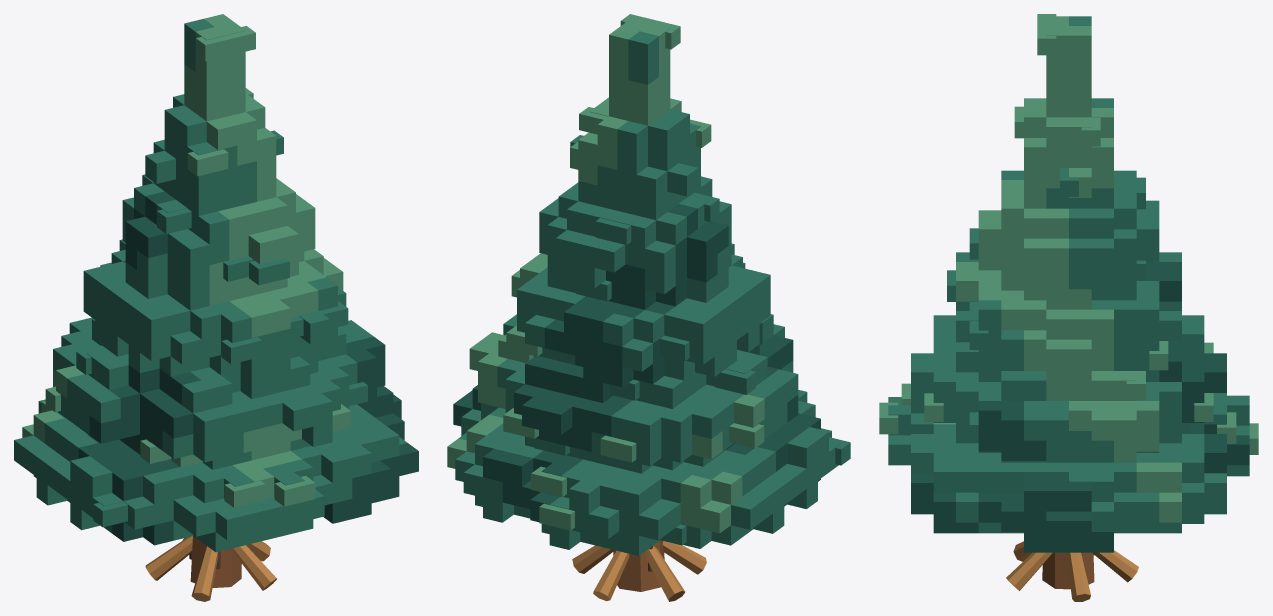
File: tree_pine.glb
The picture shows the model from 3 angles, left to right: view 1: azimuth 30°, elevation 25°; view 2: azimuth 150°, elevation 25°; view 3: azimuth 270°, elevation 25°; orthographic projection.
Visible parts, largest first — view 1: canopy__tree_pine_mid.004, canopy__tree_pine_light.004, canopy__tree_pine_dark.004, body__wood2.035, body__wood.036; view 2: canopy__tree_pine_mid.004, canopy__tree_pine_dark.004, canopy__tree_pine_light.004, body__wood2.035, body__wood.036; view 3: canopy__tree_pine_mid.004, canopy__tree_pine_light.004, canopy__tree_pine_dark.004, body__wood2.035, body__wood.036.
Part boxes in pixels (x1,y1,x2,y2): canopy__tree_pine_mid.004: [14, 18, 407, 552]; canopy__tree_pine_light.004: [22, 14, 351, 507]; canopy__tree_pine_dark.004: [78, 191, 418, 545]; body__wood2.035: [145, 536, 276, 601]; body__wood.036: [190, 536, 241, 587]; canopy__tree_pine_mid.004: [455, 31, 850, 555]; canopy__tree_pine_dark.004: [453, 204, 820, 522]; canopy__tree_pine_light.004: [447, 14, 764, 533]; body__wood2.035: [572, 541, 706, 601]; body__wood.036: [613, 540, 664, 591]; canopy__tree_pine_mid.004: [888, 16, 1249, 533]; canopy__tree_pine_light.004: [879, 14, 1258, 522]; canopy__tree_pine_dark.004: [911, 260, 1249, 552]; body__wood2.035: [1006, 541, 1138, 601]; body__wood.036: [1042, 552, 1094, 589].
Bounding box in the file's own units: 2.77 × 4.33 × 2.69.
